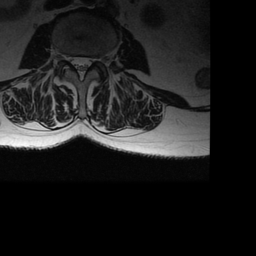CCS_normal: (77, 49, 85, 87)
LFS_severe_stenosis: (93, 50, 100, 71)
LLS_stenosis: (85, 48, 93, 78)
RFS_normal: (61, 45, 69, 70)
RLS_normal: (69, 49, 77, 74)
